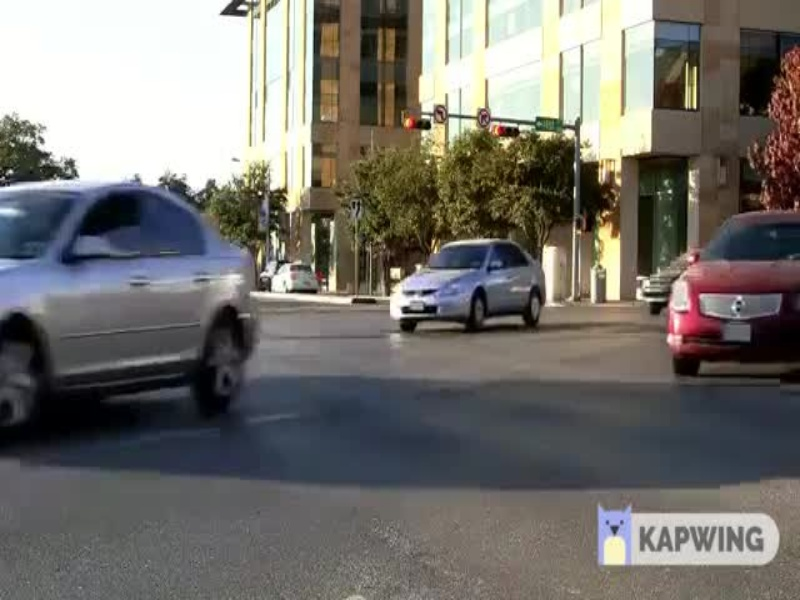car: (1, 184, 277, 421), (670, 198, 800, 413), (384, 235, 557, 334)
